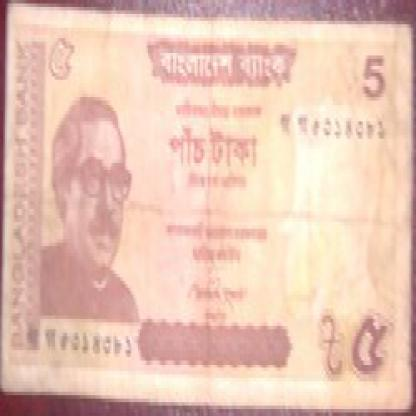Five Taka: (168, 111, 265, 170), (351, 305, 389, 385), (356, 42, 388, 108), (46, 24, 75, 94)
